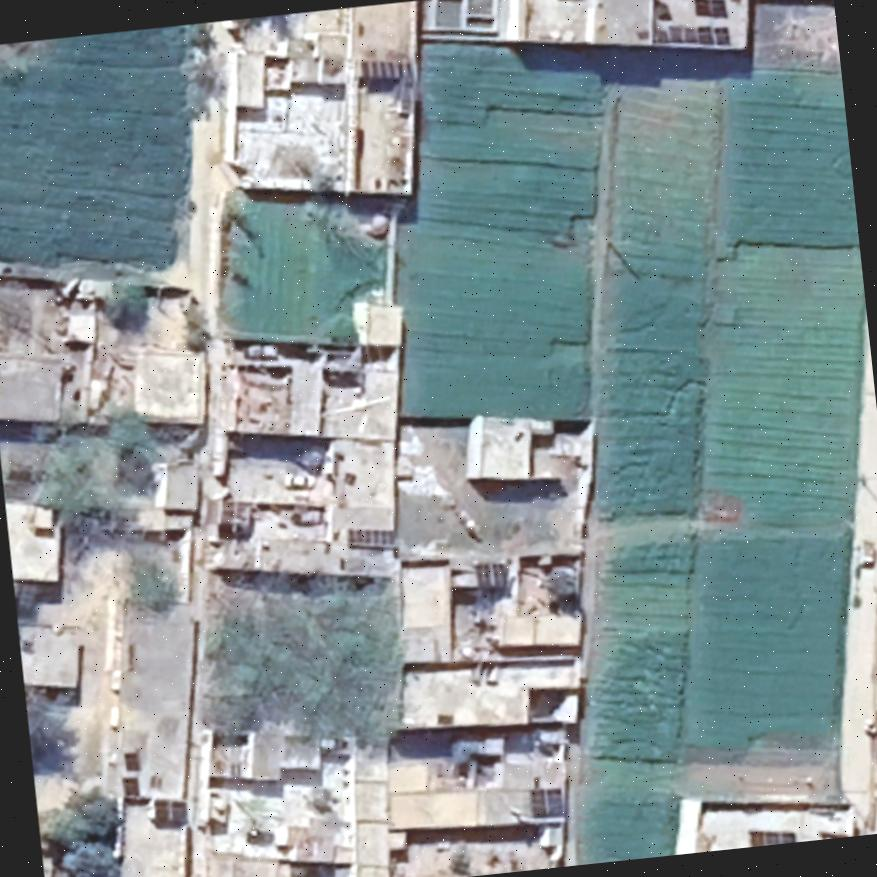Solarpanel: (645, 14, 736, 59), (342, 520, 400, 558), (524, 782, 570, 825), (744, 824, 800, 848), (475, 561, 512, 592), (688, 0, 732, 24), (151, 797, 187, 825), (122, 750, 142, 774), (121, 776, 139, 799)
